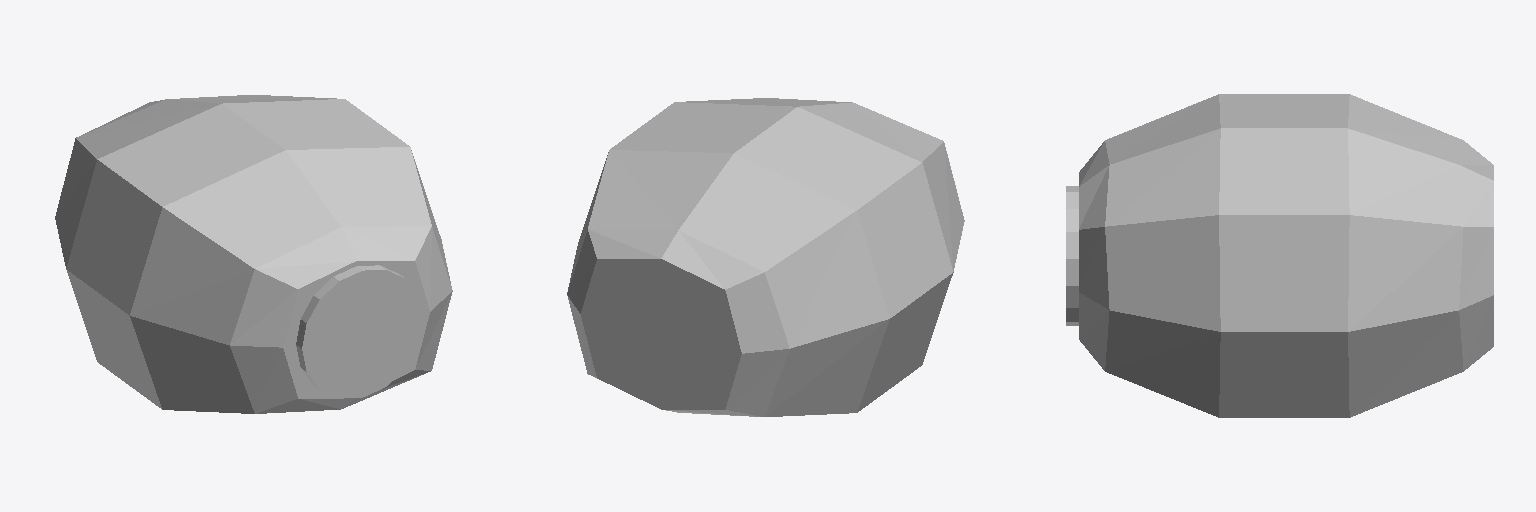
The model's file is mhMain.obj.
3 renders of one model, left to right at view 1: azimuth 30°, elevation 25°; view 2: azimuth 150°, elevation 25°; view 3: azimuth 270°, elevation 25°, orthographic.
Parts seen in each view (by area): view 1: Cylinder.002; view 2: Cylinder.002; view 3: Cylinder.002.
Part boxes in pixels (left/top/right/bottom): Cylinder.002: left=55, top=95, right=452, bottom=413; Cylinder.002: left=567, top=98, right=964, bottom=416; Cylinder.002: left=1066, top=94, right=1493, bottom=417.
Bounding box in the file's own units: 3.53 × 2.76 × 4.18.